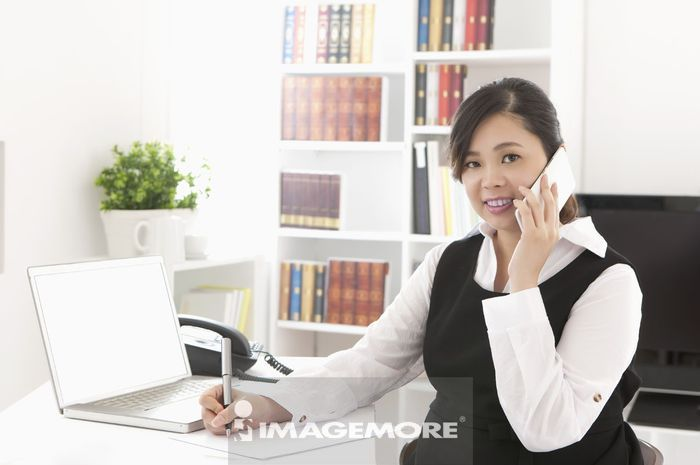phone: (518, 146, 574, 241)
talk: (463, 139, 576, 274)
